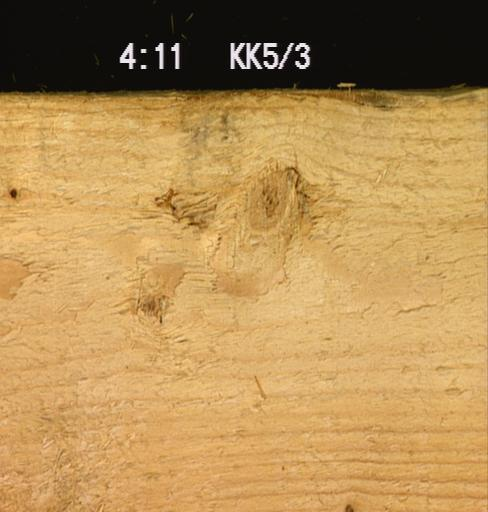edge_knot: (341, 499, 354, 511)
small_knot: (5, 184, 18, 201)
sound_knot: (245, 160, 311, 236), (121, 273, 181, 333)
